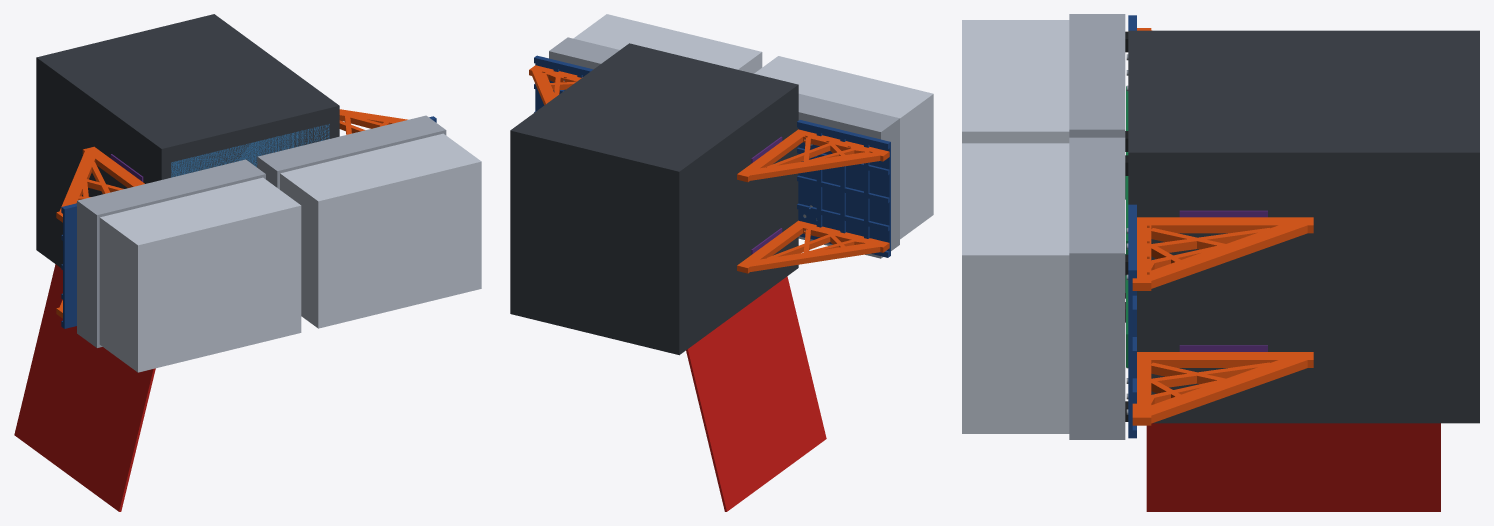
Rendered from .x2d_dual_ams_mount_assembly.step.glb.
3 renders of one model, left to right at view 1: azimuth 30°, elevation 25°; view 2: azimuth 150°, elevation 25°; view 3: azimuth 270°, elevation 25°, orthographic. The views are drawn at different scales.
Parts seen in each view (by area): view 1: o1.1, o1.12.2, o1.20.2, o1.4, o1.12.1, o1.20.1, o1.2, o1.9, o1.5, o1.17; view 2: o1.1, o1.4, o1.12.2, o1.5, o1.20.2, o1.6, o1.9, o1.12.1, o1.20.1, o1.17, o1.13; view 3: o1.1, o1.20.2, o1.4, o1.20.1, o1.12.2, o1.17, o1.14, o1.12.1, o1.13, o1.18, o1.15.
Boxes of the visible parts, box(x1,y1,x2,y2) form: o1.1: box(36, 14, 339, 267); o1.12.2: box(99, 177, 301, 372); o1.20.2: box(280, 133, 481, 328); o1.4: box(14, 264, 155, 511); o1.12.1: box(77, 159, 265, 347); o1.20.1: box(257, 115, 446, 189); o1.2: box(171, 124, 329, 177); o1.9: box(56, 146, 144, 222); o1.5: box(61, 203, 76, 328); o1.17: box(339, 109, 407, 134); o1.1: box(510, 43, 798, 355); o1.4: box(686, 276, 826, 511); o1.12.2: box(754, 56, 933, 239); o1.5: box(797, 120, 890, 257); o1.20.2: box(573, 14, 762, 73); o1.6: box(737, 220, 889, 273); o1.9: box(737, 129, 889, 182); o1.12.1: box(798, 93, 899, 258); o1.20.1: box(549, 37, 619, 69); o1.17: box(529, 65, 582, 105); o1.13: box(534, 55, 593, 112); o1.1: box(1128, 30, 1479, 423); o1.20.2: box(962, 143, 1069, 433); o1.4: box(1146, 423, 1440, 511); o1.20.1: box(1069, 137, 1125, 439); o1.12.2: box(962, 20, 1069, 143); o1.17: box(1132, 217, 1313, 290); o1.14: box(1132, 352, 1313, 425); o1.12.1: box(1069, 14, 1125, 137); o1.13: box(1128, 204, 1136, 438); o1.18: box(1179, 210, 1267, 217); o1.15: box(1179, 345, 1267, 351).
Bounding box in the file's own units: 0.8202 × 0.7569 × 0.704.
